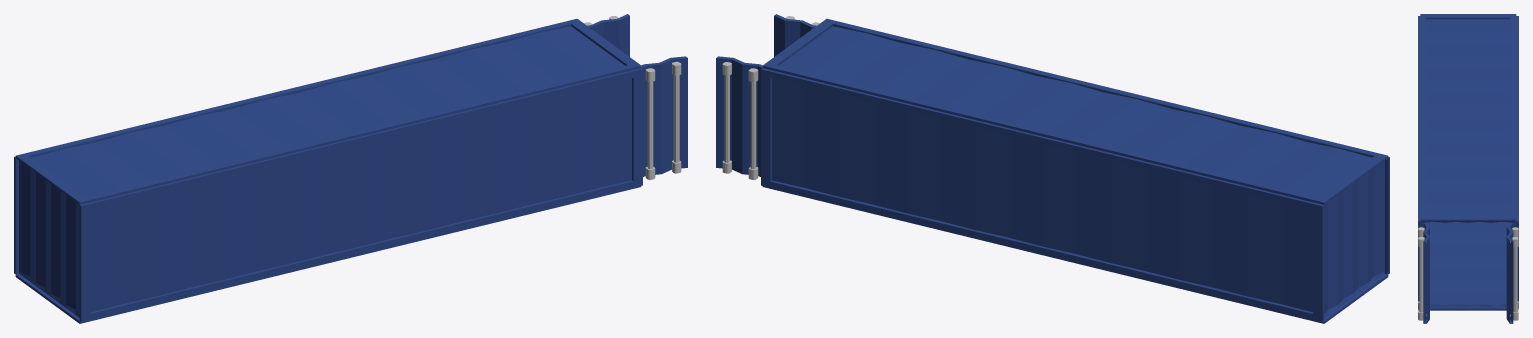
Rendered from ContainerAberto_A02.fbx.
3 renders of one model, left to right at view 1: azimuth 30°, elevation 25°; view 2: azimuth 150°, elevation 25°; view 3: azimuth 270°, elevation 25°, orthographic. The views are drawn at different scales.
Parts seen in each view (by area): view 1: Counteiner, Cabo; view 2: Counteiner, Cabo; view 3: Counteiner, Cabo.
Part boxes in pixels (<box>): Counteiner: <box>14,14,687,323</box>; Cabo: <box>584,16,681,179</box>; Counteiner: <box>716,14,1389,323</box>; Cabo: <box>722,16,819,179</box>; Counteiner: <box>1418,14,1518,323</box>; Cabo: <box>1418,227,1518,320</box>.
Bounding box in the file's own units: 742 × 141 × 142.
